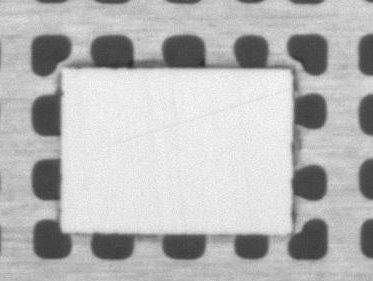DIE_CRACK: (154, 67, 373, 108)
